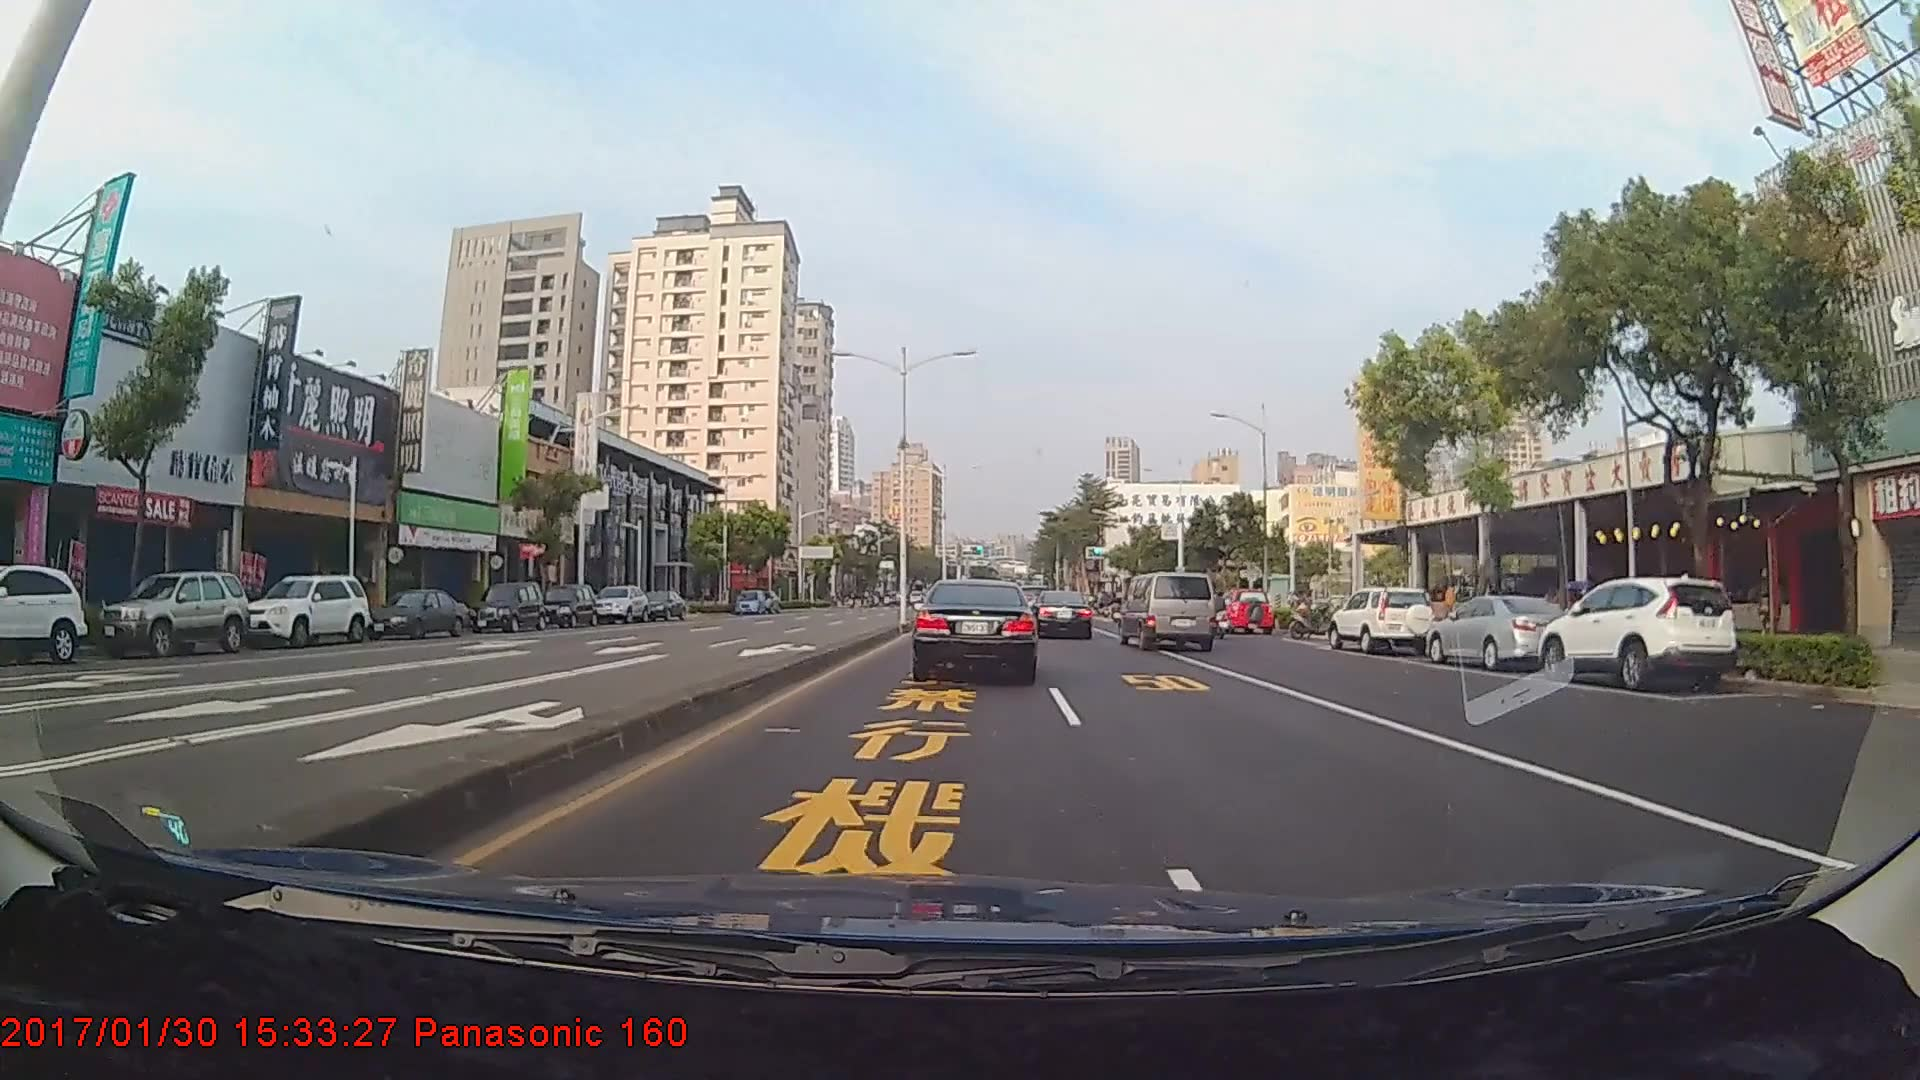vehicle: (1538, 574, 1746, 694), (96, 568, 249, 655), (913, 578, 1036, 682), (1424, 591, 1561, 673), (239, 570, 368, 645), (0, 562, 88, 662), (1118, 571, 1217, 651), (1328, 587, 1439, 655), (363, 589, 469, 640), (465, 579, 546, 630), (1031, 589, 1095, 641), (535, 582, 595, 626), (1220, 589, 1273, 636), (592, 584, 650, 624), (636, 587, 684, 621), (732, 589, 764, 617)
